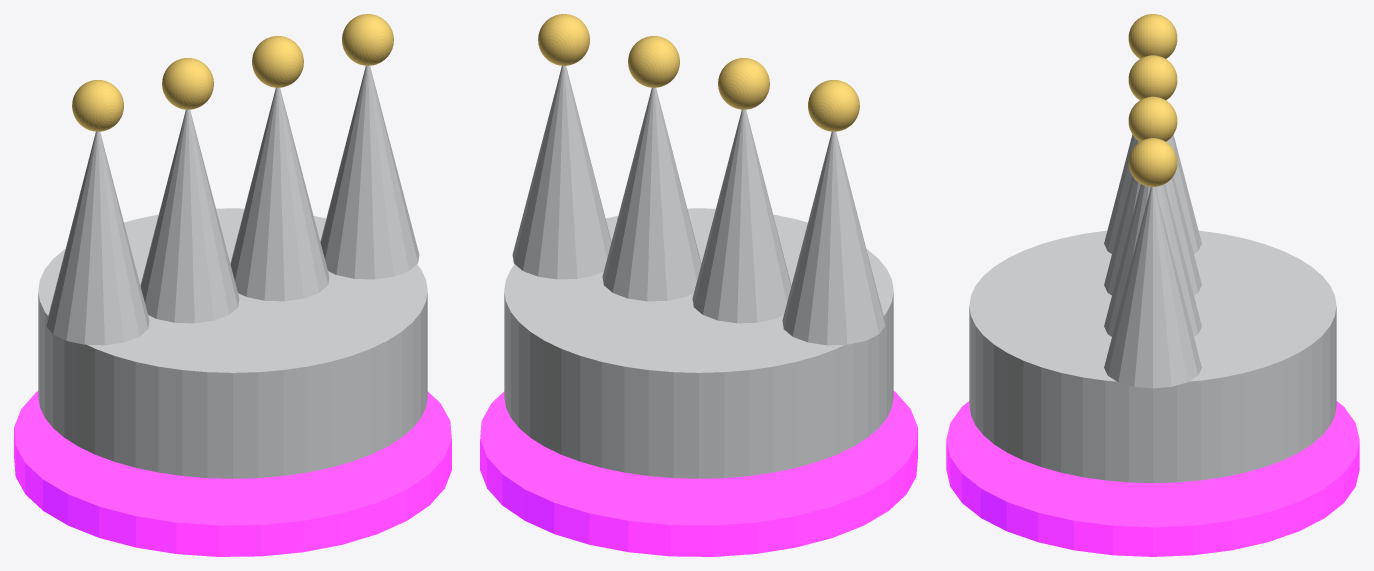
The model's file is modelling_crown.glb.
3 renders of one model, left to right at view 1: azimuth 30°, elevation 25°; view 2: azimuth 150°, elevation 25°; view 3: azimuth 270°, elevation 25°, orthographic. The views are drawn at different scales.
Parts seen in each view (by area): view 1: 05_20_Popular_Modelling_Crown_part_01, 05_20_Popular_Modelling_Crown_ROOT_base, 05_20_Popular_Modelling_Crown_part_02, 05_20_Popular_Modelling_Crown_part_06, 05_20_Popular_Modelling_Crown_part_08, 05_20_Popular_Modelling_Crown_part_04, 05_20_Popular_Modelling_Crown_part_03, 05_20_Popular_Modelling_Crown_part_05, 05_20_Popular_Modelling_Crown_part_07, 05_20_Popular_Modelling_Crown_part_09; view 2: 05_20_Popular_Modelling_Crown_part_01, 05_20_Popular_Modelling_Crown_ROOT_base, 05_20_Popular_Modelling_Crown_part_02, 05_20_Popular_Modelling_Crown_part_06, 05_20_Popular_Modelling_Crown_part_08, 05_20_Popular_Modelling_Crown_part_04, 05_20_Popular_Modelling_Crown_part_03, 05_20_Popular_Modelling_Crown_part_05, 05_20_Popular_Modelling_Crown_part_07, 05_20_Popular_Modelling_Crown_part_09; view 3: 05_20_Popular_Modelling_Crown_part_01, 05_20_Popular_Modelling_Crown_ROOT_base, 05_20_Popular_Modelling_Crown_part_08, 05_20_Popular_Modelling_Crown_part_06, 05_20_Popular_Modelling_Crown_part_04, 05_20_Popular_Modelling_Crown_part_02, 05_20_Popular_Modelling_Crown_part_09, 05_20_Popular_Modelling_Crown_part_05, 05_20_Popular_Modelling_Crown_part_03, 05_20_Popular_Modelling_Crown_part_07.
Boxes of the visible parts, x1,y1,x2,y2 form: 05_20_Popular_Modelling_Crown_part_01: (38, 208, 427, 478); 05_20_Popular_Modelling_Crown_ROOT_base: (14, 391, 451, 556); 05_20_Popular_Modelling_Crown_part_02: (46, 131, 149, 345); 05_20_Popular_Modelling_Crown_part_06: (230, 87, 329, 301); 05_20_Popular_Modelling_Crown_part_08: (320, 65, 419, 279); 05_20_Popular_Modelling_Crown_part_04: (140, 109, 239, 323); 05_20_Popular_Modelling_Crown_part_03: (72, 80, 123, 131); 05_20_Popular_Modelling_Crown_part_05: (162, 58, 213, 109); 05_20_Popular_Modelling_Crown_part_07: (252, 36, 303, 87); 05_20_Popular_Modelling_Crown_part_09: (342, 14, 393, 65); 05_20_Popular_Modelling_Crown_part_01: (504, 208, 893, 478); 05_20_Popular_Modelling_Crown_ROOT_base: (480, 391, 917, 556); 05_20_Popular_Modelling_Crown_part_02: (782, 131, 885, 345); 05_20_Popular_Modelling_Crown_part_06: (602, 87, 701, 301); 05_20_Popular_Modelling_Crown_part_08: (512, 65, 611, 279); 05_20_Popular_Modelling_Crown_part_04: (692, 109, 791, 323); 05_20_Popular_Modelling_Crown_part_03: (808, 80, 859, 131); 05_20_Popular_Modelling_Crown_part_05: (718, 58, 769, 109); 05_20_Popular_Modelling_Crown_part_07: (628, 36, 679, 87); 05_20_Popular_Modelling_Crown_part_09: (538, 14, 589, 65); 05_20_Popular_Modelling_Crown_part_01: (969, 230, 1336, 482); 05_20_Popular_Modelling_Crown_ROOT_base: (946, 401, 1359, 556); 05_20_Popular_Modelling_Crown_part_08: (1104, 187, 1201, 388); 05_20_Popular_Modelling_Crown_part_06: (1104, 184, 1201, 336); 05_20_Popular_Modelling_Crown_part_04: (1104, 176, 1201, 295); 05_20_Popular_Modelling_Crown_part_02: (1104, 134, 1201, 253); 05_20_Popular_Modelling_Crown_part_09: (1128, 138, 1177, 186); 05_20_Popular_Modelling_Crown_part_05: (1128, 55, 1177, 100); 05_20_Popular_Modelling_Crown_part_03: (1128, 14, 1177, 58); 05_20_Popular_Modelling_Crown_part_07: (1128, 96, 1177, 141).
Size of the model in its own units: 0.76 by 0.7936 by 0.76.
